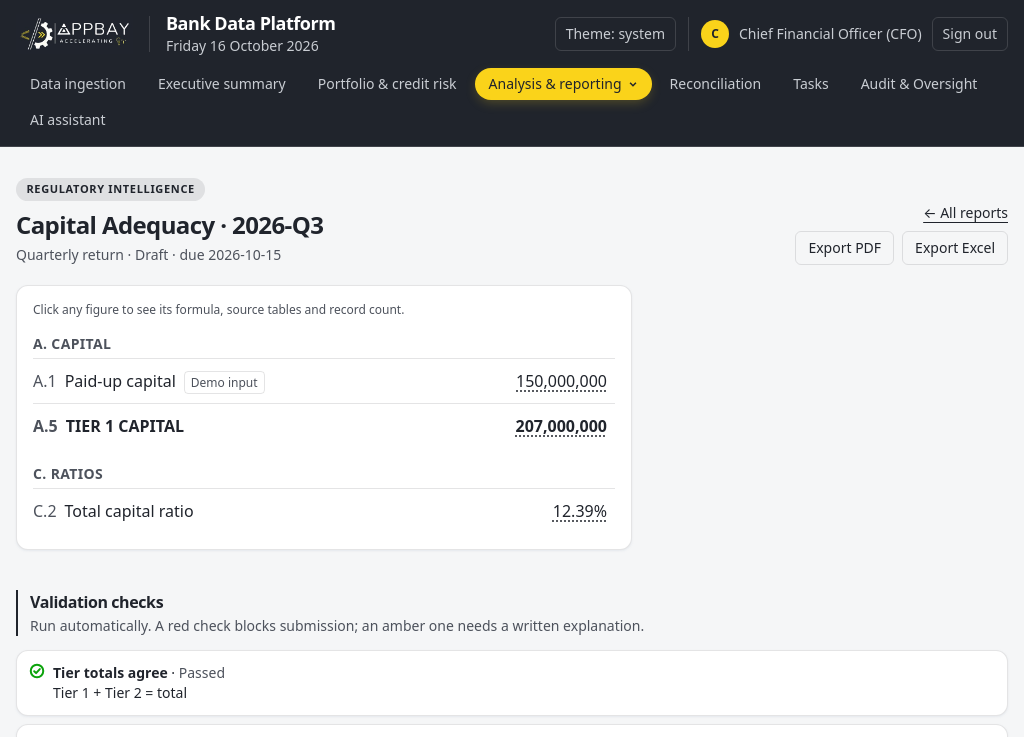
Test: Screen 3: regulatory reporting › opens a return, shows demo inputs, and drills a figure into its calculation
Expected: the element named "Section A" is shown, x1=33 y1=334 x2=615 y2=448
Expected: the text "Demo input" is shown, x1=184 y1=371 x2=265 y2=394
Click the button "207,000,000". click: (561, 426)
box: x1=508 y1=412 x2=615 y2=440
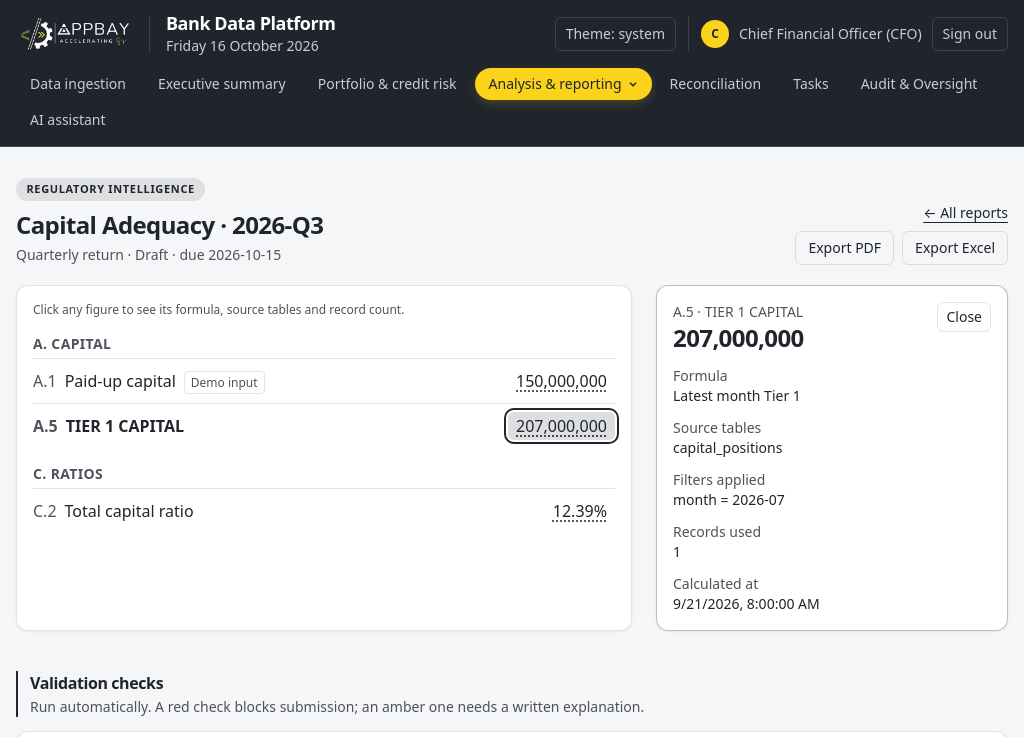
Expected: the text "Latest month Tier 1" is shown, x1=673 y1=386 x2=801 y2=405
Expected: the text "capital_positions" is shown, x1=673 y1=438 x2=782 y2=457
